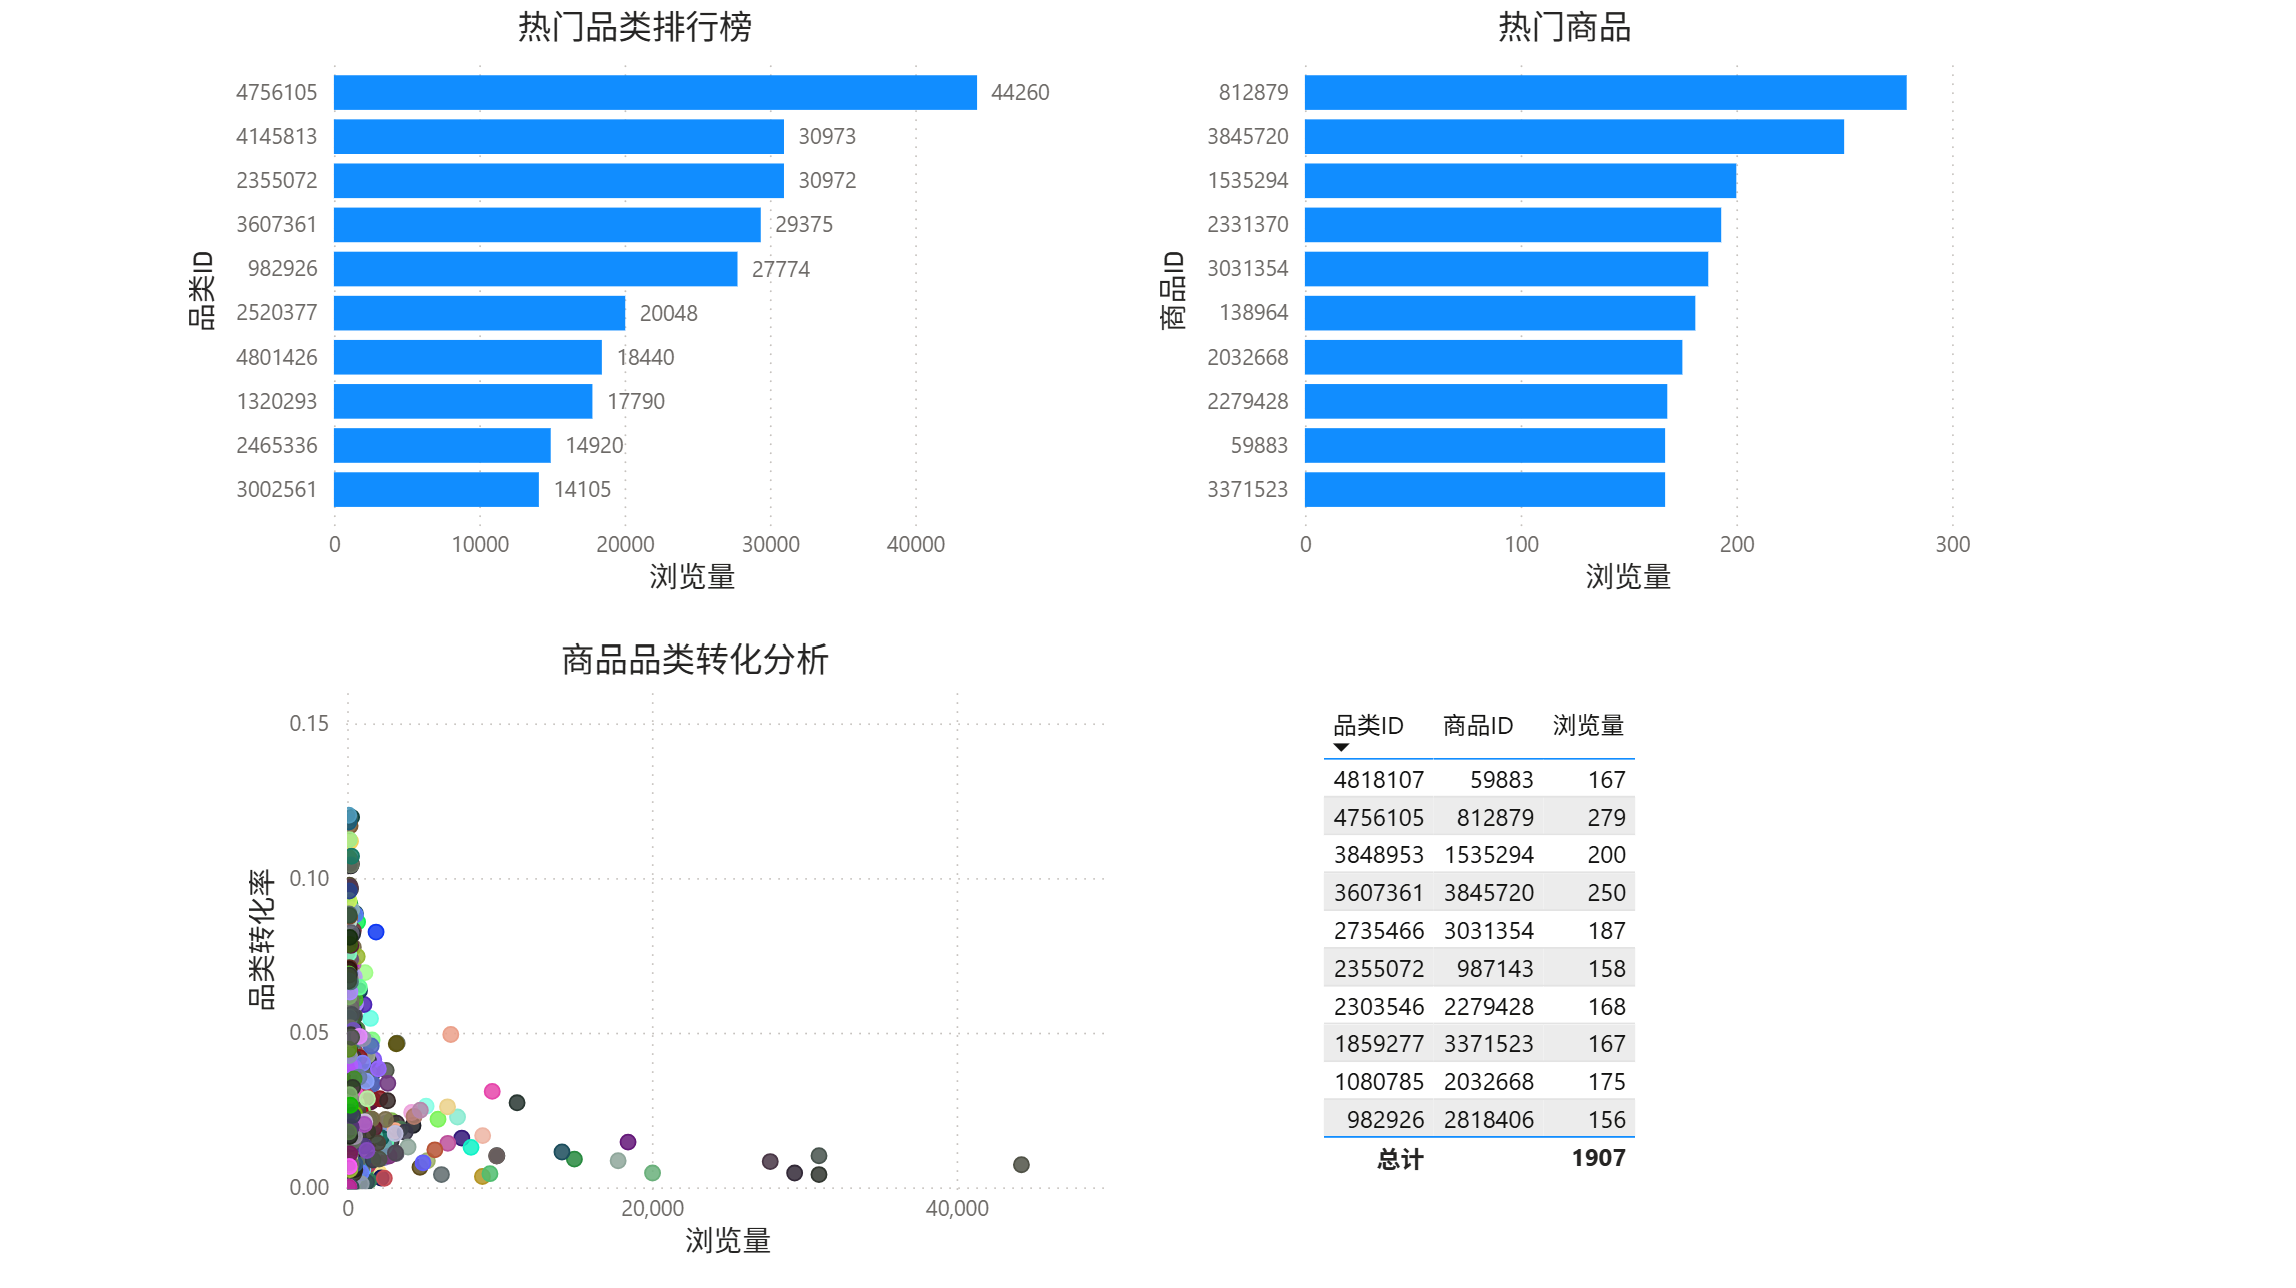

What the dashboard file says about the page in this screenshot:
{"tool":"powerbi","page":{"name":"商品运营看板","canvas":[1280,720],"ordinal":2},"visuals":[{"type":"clusteredBarChart","title":"热门品类排行榜","fields":{"Category":["taobao_data popular_categories.category_id"],"Y":["Sum(taobao_data popular_categories.pv)"]},"box":[101.4,0,505.7,334.3],"z":0},{"type":"clusteredBarChart","title":"热门商品","fields":{"Category":["taobao_data popular_items.item_id"],"Y":["Sum(taobao_data popular_items.pv)"]},"box":[640,0,460,334.3],"z":1000},{"type":"tableEx","fields":{"Values":["taobao_data popular_cateitems.category_id","taobao_data popular_cateitems.item_id","Sum(taobao_data popular_cateitems.pv)"]},"box":[730,385.7,194.3,282.9],"z":2000},{"type":"scatterChart","title":"商品品类转化分析","fields":{"X":["Sum(taobao_data category_detail.pv)"],"Y":["Sum(taobao_data category_detail.user_buy_rate)"],"Series":["taobao_data category_detail.category_id"]},"box":[134.3,351.4,505.7,351.4],"z":3000}]}

Visuals, with their boxes in screenshot pixels (x1, y1, x2, y2), scaled from the page's 1280x720 canvas onto the 2296x1288 screenshot:
"热门品类排行榜" clusteredBarChart: x1=182, y1=0, x2=1089, y2=598
"热门商品" clusteredBarChart: x1=1148, y1=0, x2=1973, y2=598
tableEx - taobao_data popular_cateitems.category_id x taobao_data popular_cateitems.item_id: x1=1309, y1=690, x2=1658, y2=1196
"商品品类转化分析" scatterChart: x1=241, y1=629, x2=1148, y2=1257
